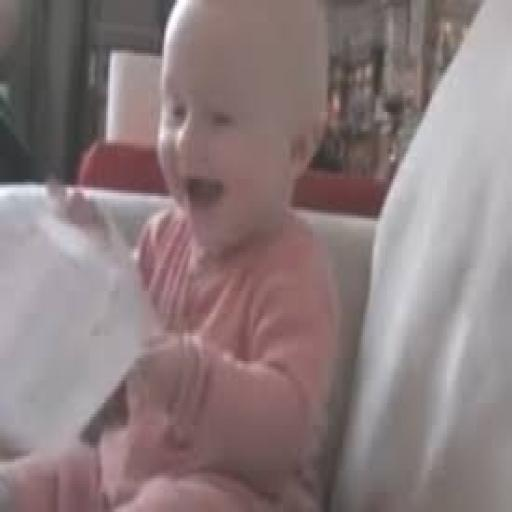laughing: (0, 0, 348, 509)
